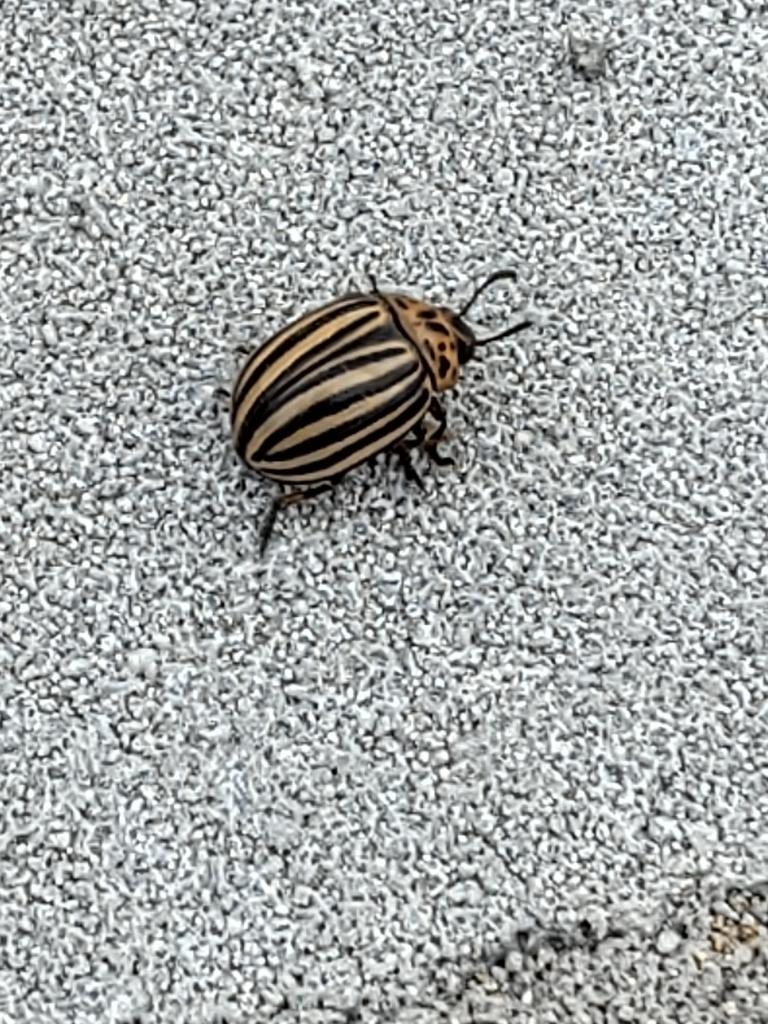potato_beetle: (160, 207, 569, 590)
